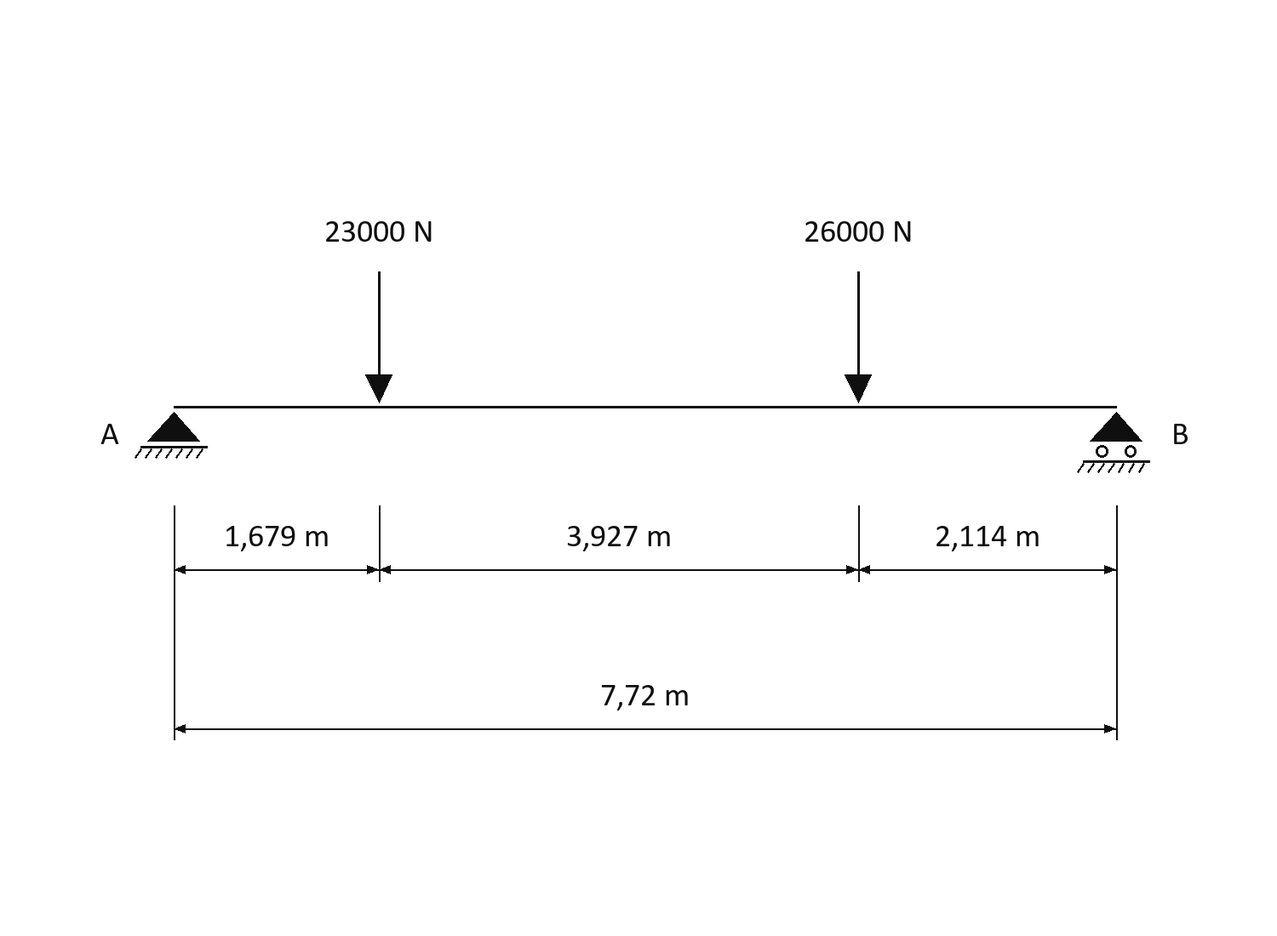pin_support: (135, 412, 208, 459)
point_load: (365, 271, 392, 403), (845, 271, 872, 403)
roller_support: (1077, 412, 1150, 473)
